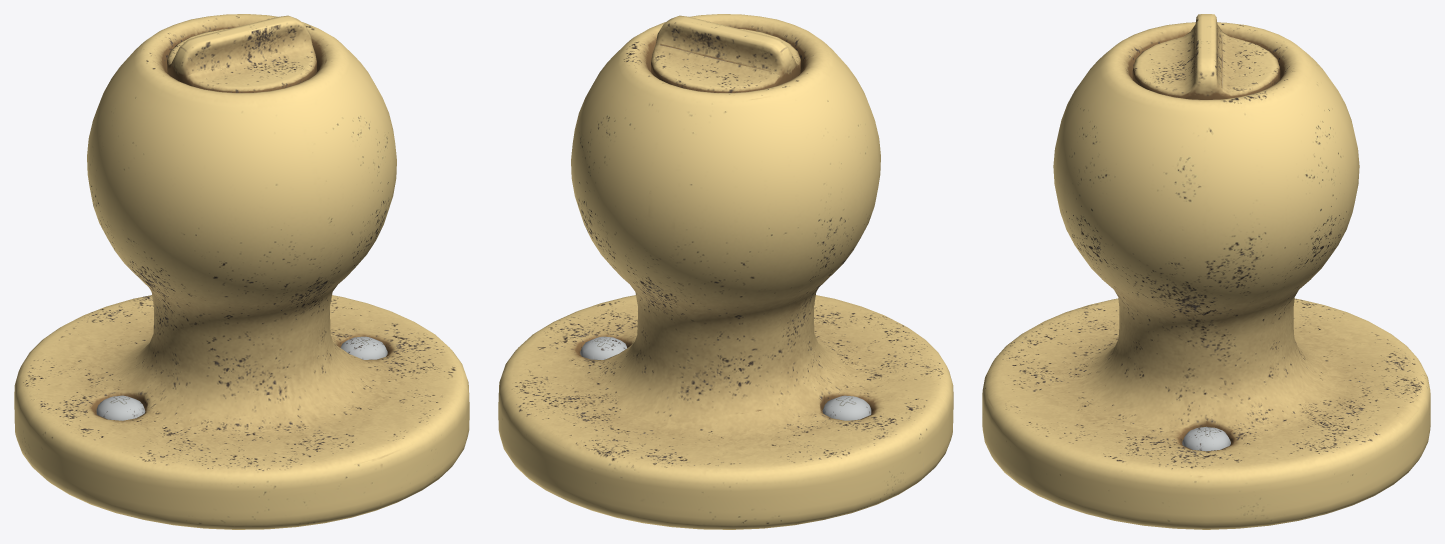
File: door_knob.glb
3 renders of one model, left to right at view 1: azimuth 30°, elevation 25°; view 2: azimuth 150°, elevation 25°; view 3: azimuth 270°, elevation 25°, orthographic.
Visible parts, largest first — view 1: Sheet_109_remesh.003; view 2: Sheet_109_remesh.003; view 3: Sheet_109_remesh.003.
Part boxes in pixels (x1=…): Sheet_109_remesh.003: x1=14, y1=14, x2=469, y2=529; Sheet_109_remesh.003: x1=498, y1=14, x2=953, y2=529; Sheet_109_remesh.003: x1=982, y1=14, x2=1430, y2=529.
Bounding box in the file's own units: 32.27 × 31.98 × 32.26.
1 material, 1 textured.
